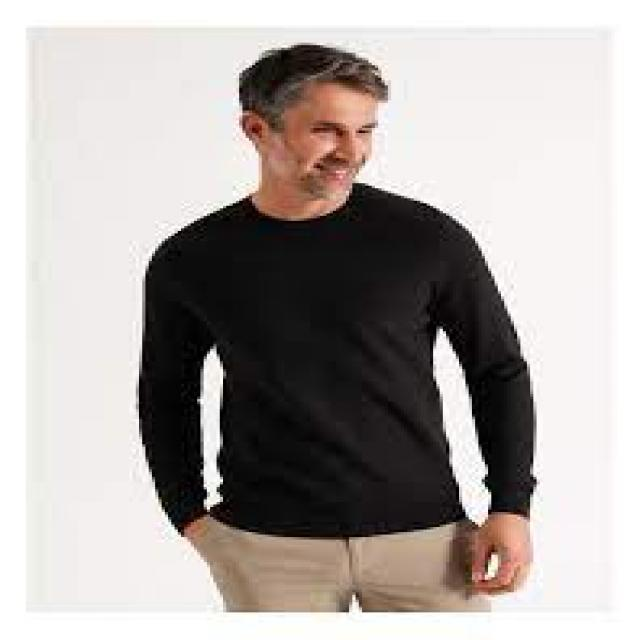plain: (140, 192, 534, 522)
